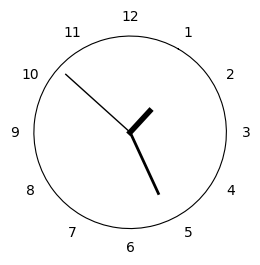12: (123, 8, 139, 23)
circle: (33, 35, 227, 229)
hours: (127, 107, 154, 135)
minutes: (131, 135, 159, 195)
seconds: (65, 74, 128, 131)
